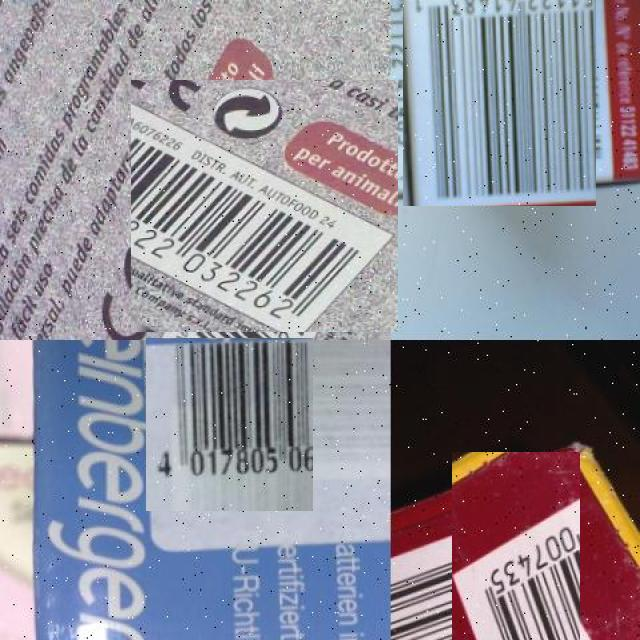Barcode: (134, 76, 394, 336), (397, 0, 603, 200), (422, 482, 610, 640), (144, 339, 315, 509)
